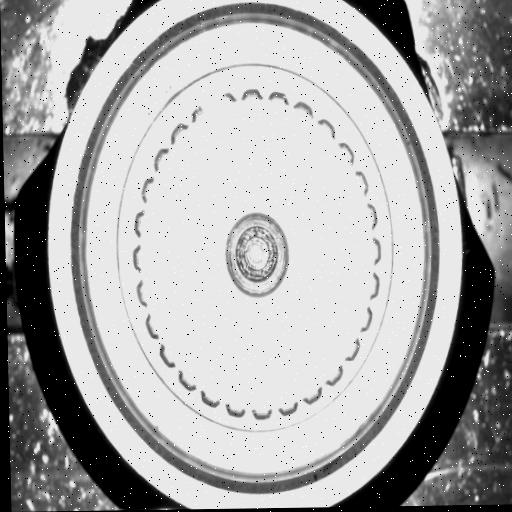gear: (130, 87, 386, 421)
